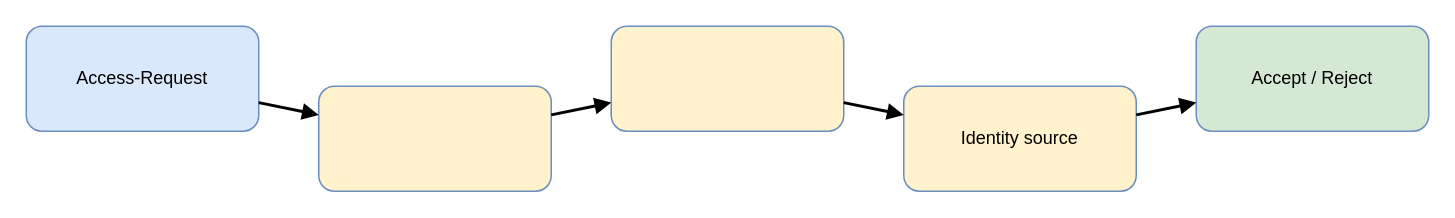
Some shapes in this 1455 by 218 pixel diagram are drawn without their labels. Here are the shapes that lost their labels. From the top down, the centre of each, then its label:
[727,78]: Realm match
[434,138]: Username parser
